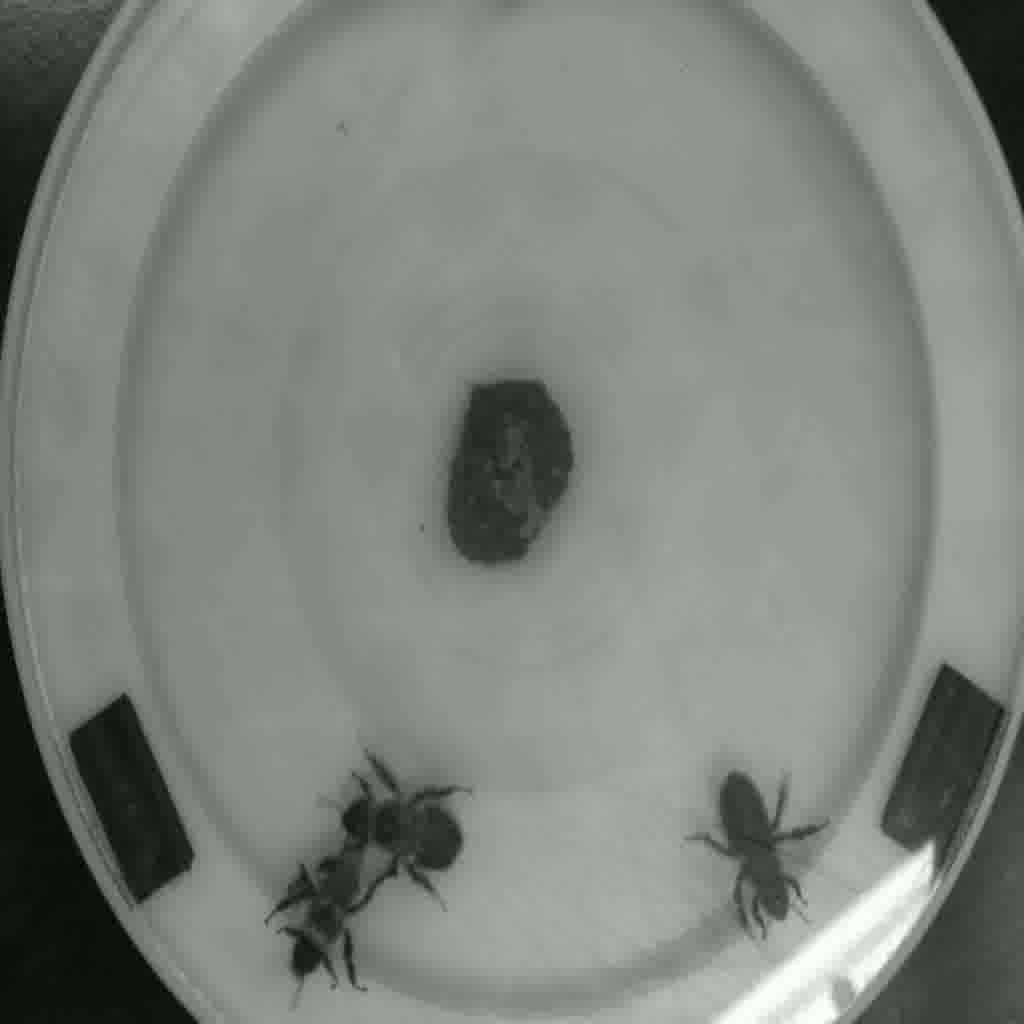bee: (694, 774, 828, 934), (337, 755, 469, 888), (256, 852, 383, 985)
